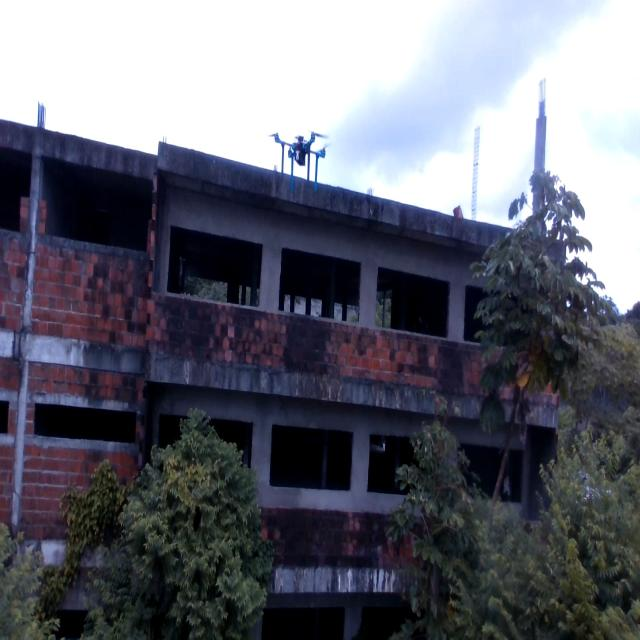-uav-: (256, 92, 346, 206)
